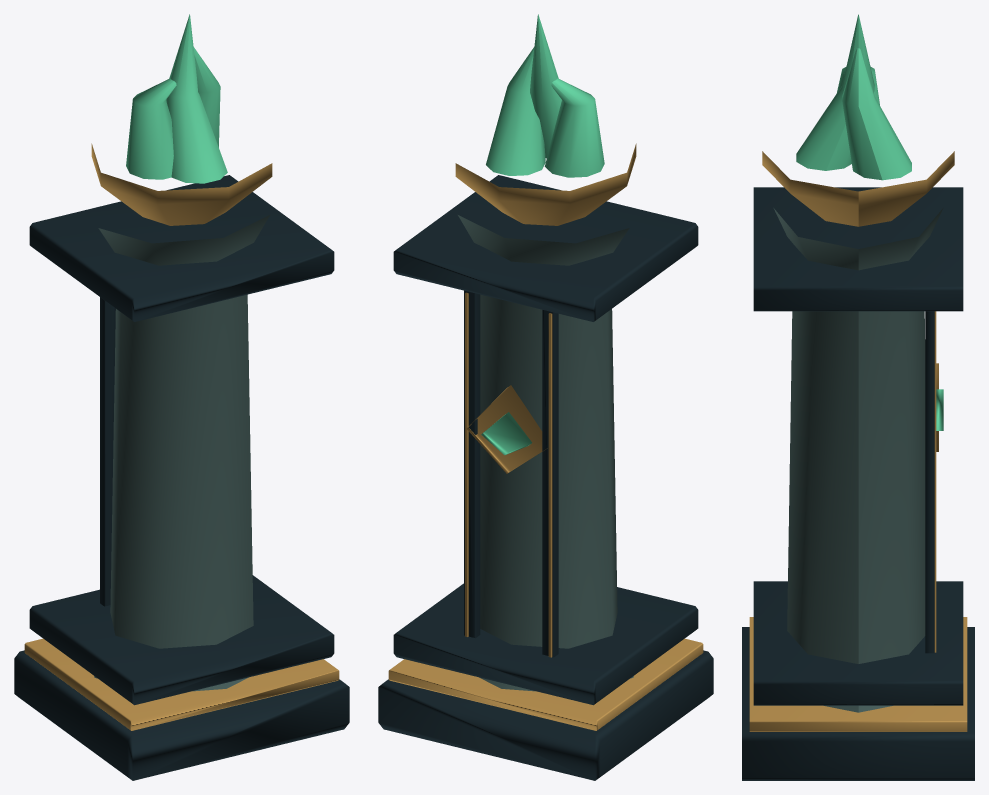
File: prop_0_3.glb
3 views of the same model, side by side, from view 1: azimuth 30°, elevation 25°; view 2: azimuth 150°, elevation 25°; view 3: azimuth 270°, elevation 25° (orthographic). The views are drawn at different scales.
Parts seen in each view (by area): view 1: CarvedPillar, Cornice (×2), Plinth, SpectralFlame (×3), PlinthGold, Brazier, Fluting; view 2: CarvedPillar, Cornice (×2), Plinth, SpectralFlame (×3), Fluting (×2), PlinthGold, Brazier, GiltFluting (×2), CarvedEye, EyeInset; view 3: CarvedPillar, Cornice (×2), Plinth, SpectralFlame (×2), PlinthGold, Brazier, Fluting, GiltFluting.
Part boxes in pixels (x1=…): CarvedPillar: x1=94, y1=215, x2=269, y2=691; Cornice (×2): x1=29, y1=175, x2=334, y2=705; Plinth: x1=14, y1=650, x2=349, y2=780; SpectralFlame (×3): x1=126, y1=14, x2=227, y2=183; PlinthGold: x1=24, y1=638, x2=339, y2=730; Brazier: x1=91, y1=143, x2=272, y2=225; Fluting: x1=100, y1=297, x2=115, y2=606; CarvedPillar: x1=458, y1=215, x2=633, y2=691; Cornice (×2): x1=393, y1=175, x2=698, y2=705; Plinth: x1=378, y1=650, x2=713, y2=780; SpectralFlame (×3): x1=486, y1=14, x2=604, y2=177; Fluting (×2): x1=464, y1=290, x2=558, y2=657; PlinthGold: x1=388, y1=638, x2=703, y2=730; Brazier: x1=455, y1=143, x2=636, y2=225; GiltFluting (×2): x1=465, y1=292, x2=552, y2=657; CarvedEye: x1=466, y1=385, x2=547, y2=473; EyeInset: x1=481, y1=412, x2=531, y2=455; CarvedPillar: x1=773, y1=208, x2=943, y2=712; Cornice (×2): x1=753, y1=187, x2=963, y2=705; Plinth: x1=742, y1=627, x2=974, y2=780; SpectralFlame (×2): x1=796, y1=14, x2=911, y2=180; PlinthGold: x1=749, y1=617, x2=967, y2=731; Brazier: x1=762, y1=151, x2=954, y2=226; Fluting: x1=925, y1=311, x2=934, y2=653; GiltFluting: x1=934, y1=311, x2=936, y2=652.
Size of the model in its own units: 1.7 by 5.1 by 1.5.
